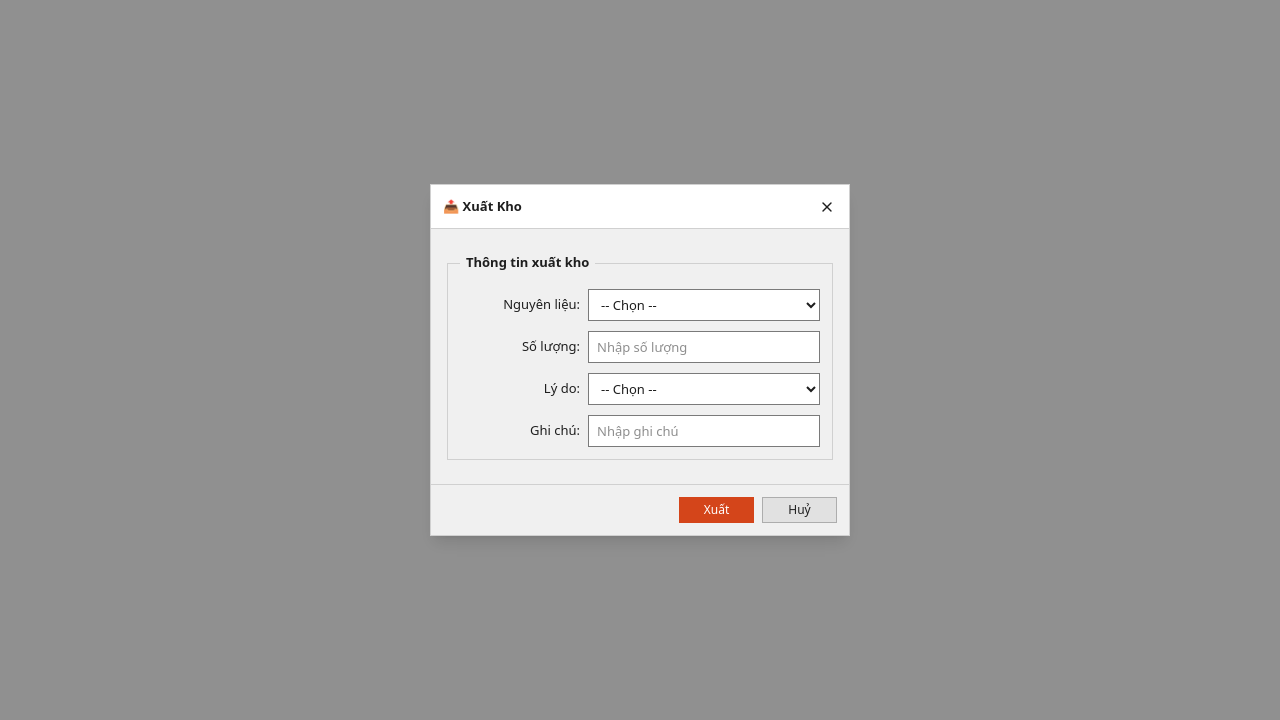
Test: StockExportForm › validates quantity > 0
This screenshot has width=1280, height=720.
Type "0" into the number field.
click(704, 347); type("0")  # box x1=588 y1=331 x2=820 y2=363
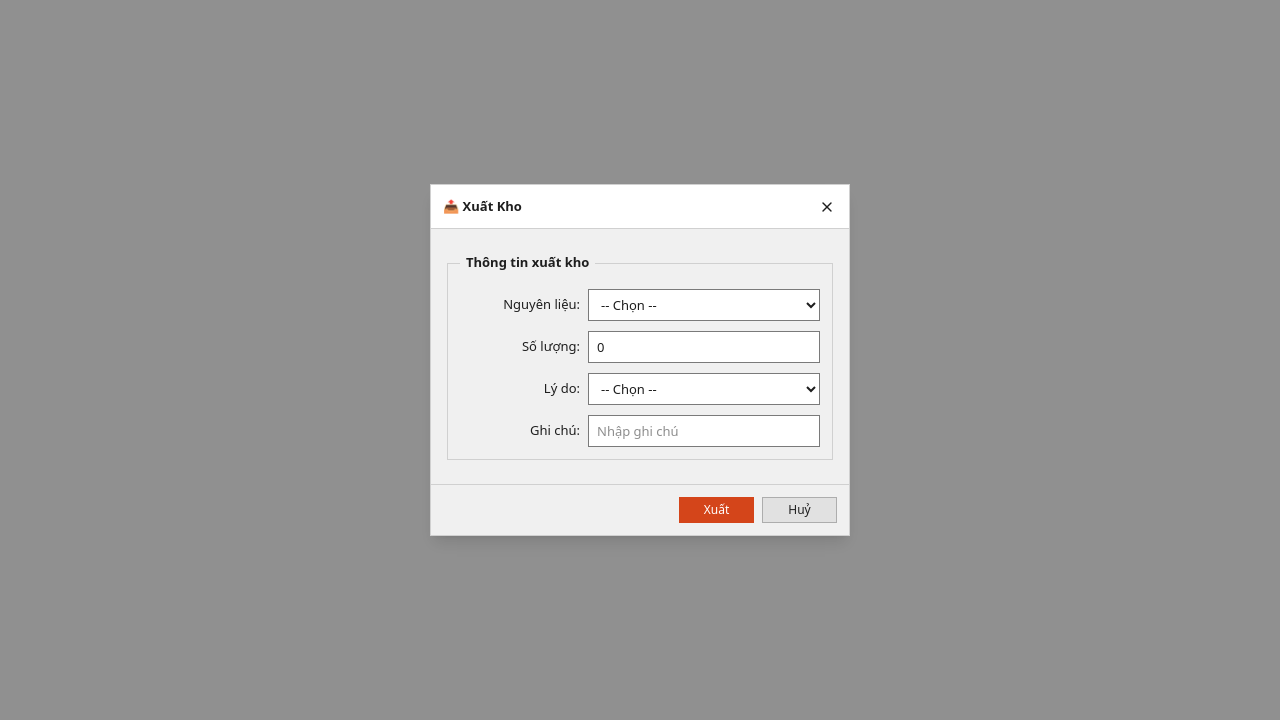
Click the button "Xuất".
click(716, 510)  # box x1=679 y1=497 x2=754 y2=523
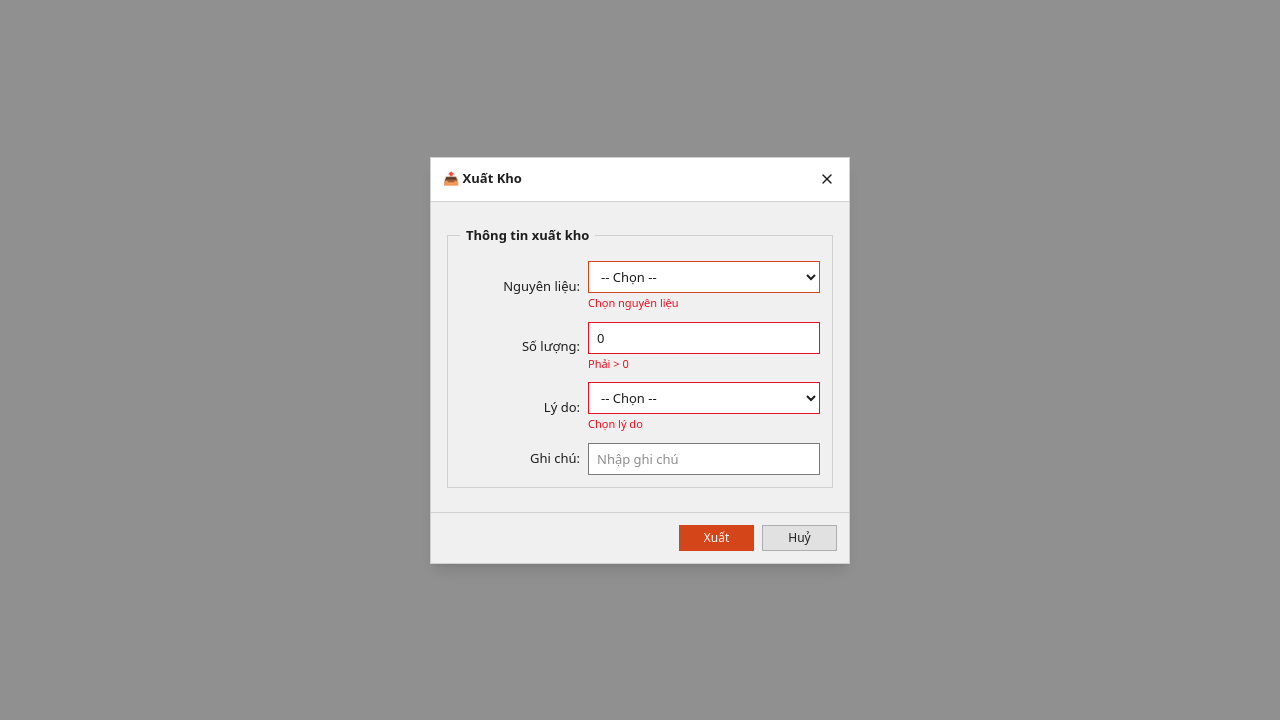
Expected: the text "Phải > 0" is shown, x1=588 y1=356 x2=629 y2=370
